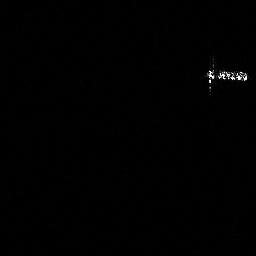ship: (200, 57, 248, 94)
